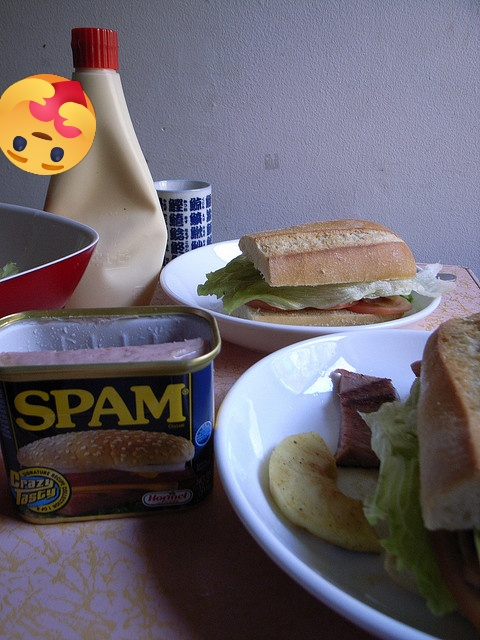care: (0, 74, 96, 175)
